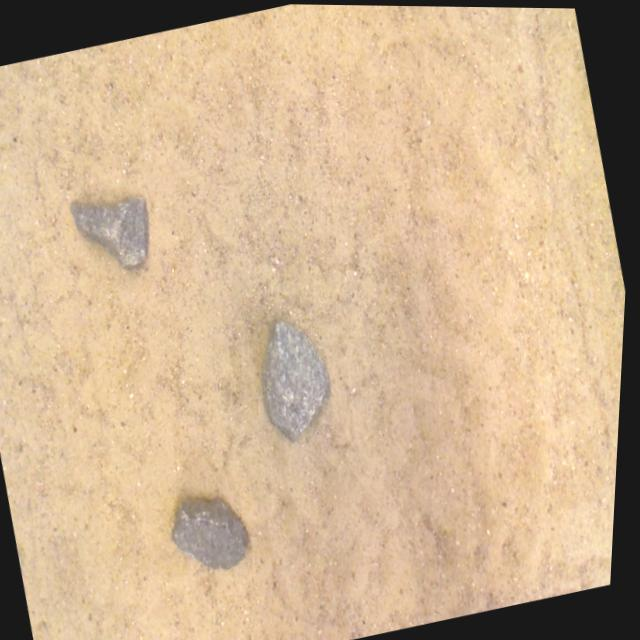rock: (265, 318, 333, 438), (72, 195, 150, 266), (177, 496, 253, 566)
